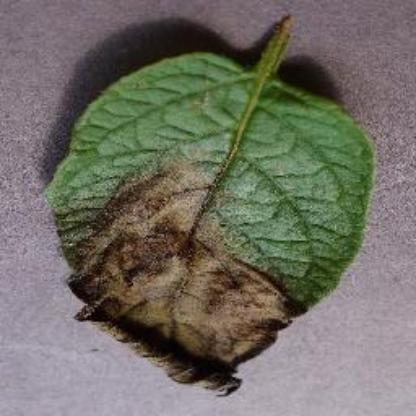Late-Blight: (24, 17, 382, 398)
